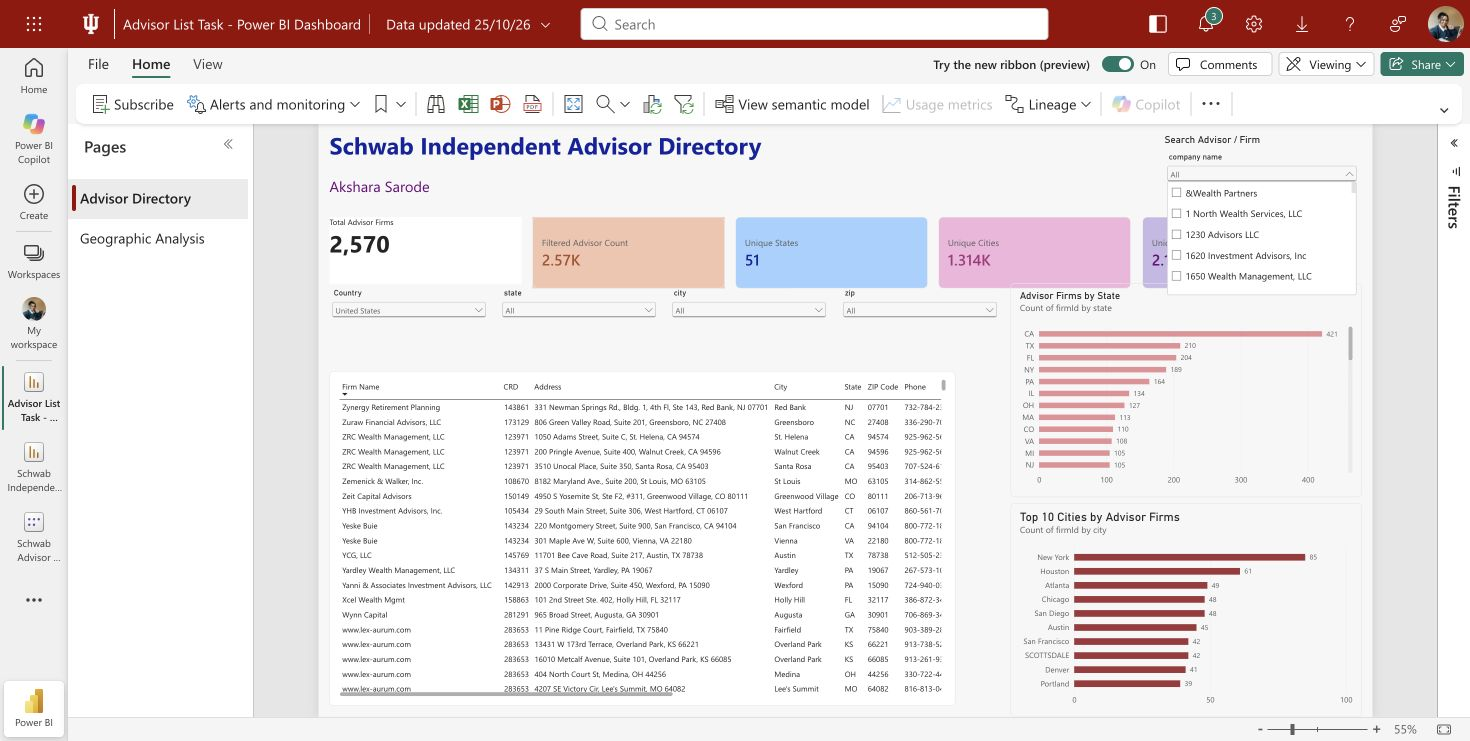

Layout of this report page (visuals, bound fields, positions):
{"tool":"powerbi","page":{"name":"Page 1","canvas":[1920,1080],"ordinal":0},"visuals":[{"type":"slicer","fields":{"Values":["Advisor Locations.Country"]},"box":[20,330,350,170],"z":0},{"type":"slicer","fields":{"Values":["Advisor Locations.state"]},"box":[390,330,350,170],"z":1000},{"type":"slicer","fields":{"Values":["Advisor Locations.city"]},"box":[760,330,350,170],"z":2000},{"type":"slicer","fields":{"Values":["Advisor Locations.zip"]},"box":[1130,330,350,170],"z":3000},{"type":"textSlicer","fields":{"Values":["Advisor Locations.company name"]},"box":[1500,330,380,170],"z":4000},{"type":"tableEx","fields":{"Values":["Advisor Locations.company name","Advisor Locations.city","Advisor Locations.zip","Advisor Locations.phone","Advisor Locations.email","Advisor Locations.website","Advisor Locations.profile url","Advisor Locations.state"]},"box":[739.2,519.5,1139.6,514.9],"z":5000},{"type":"cardVisual","fields":{"Data":["Count(Advisor Locations.state)"]},"box":[760,170,350,130],"z":6000},{"type":"cardVisual","fields":{"Data":["Count(Advisor Locations.city)"]},"box":[1130,170,350,130],"z":7000},{"type":"cardVisual","fields":{"Data":["Count(Advisor Locations.zip)"]},"box":[1500,170,350,130],"z":8000},{"type":"cardVisual","fields":{"Data":["Count(Advisor Locations.firmId)"]},"box":[390,170,350,130],"z":9000},{"type":"textbox","box":[20.4,170,350.2,122.6],"z":10000},{"type":"textbox","box":[20,10,1520,90],"z":11000},{"type":"textbox","box":[20,95,1520,60],"z":12000},{"type":"clusteredBarChart","title":"Advisor Firms by State","fields":{"Category":["Advisor Locations.state"],"Y":["Count(Advisor Locations.firmId)"]},"box":[20.6,519.5,682,514.9],"z":13000}]}

Visuals, with their boxes on the page's 1920x1080 design canvas (x1, y1, x2, y2). These are canvas units, not pixel positions in the 1470x741 screenshot, which may show the page scaled, cropped or inside an application window:
slicer - Advisor Locations.Country: {"left": 20, "top": 330, "right": 370, "bottom": 500}
slicer - Advisor Locations.state: {"left": 390, "top": 330, "right": 740, "bottom": 500}
slicer - Advisor Locations.city: {"left": 760, "top": 330, "right": 1110, "bottom": 500}
slicer - Advisor Locations.zip: {"left": 1130, "top": 330, "right": 1480, "bottom": 500}
textSlicer - Advisor Locations.company name: {"left": 1500, "top": 330, "right": 1880, "bottom": 500}
tableEx - Advisor Locations.company name x Advisor Locations.city: {"left": 739, "top": 520, "right": 1879, "bottom": 1034}
cardVisual - Count(Advisor Locations.state): {"left": 760, "top": 170, "right": 1110, "bottom": 300}
cardVisual - Count(Advisor Locations.city): {"left": 1130, "top": 170, "right": 1480, "bottom": 300}
cardVisual - Count(Advisor Locations.zip): {"left": 1500, "top": 170, "right": 1850, "bottom": 300}
cardVisual - Count(Advisor Locations.firmId): {"left": 390, "top": 170, "right": 740, "bottom": 300}
textbox: {"left": 20, "top": 170, "right": 371, "bottom": 293}
textbox: {"left": 20, "top": 10, "right": 1540, "bottom": 100}
textbox: {"left": 20, "top": 95, "right": 1540, "bottom": 155}
"Advisor Firms by State" clusteredBarChart: {"left": 21, "top": 520, "right": 703, "bottom": 1034}
